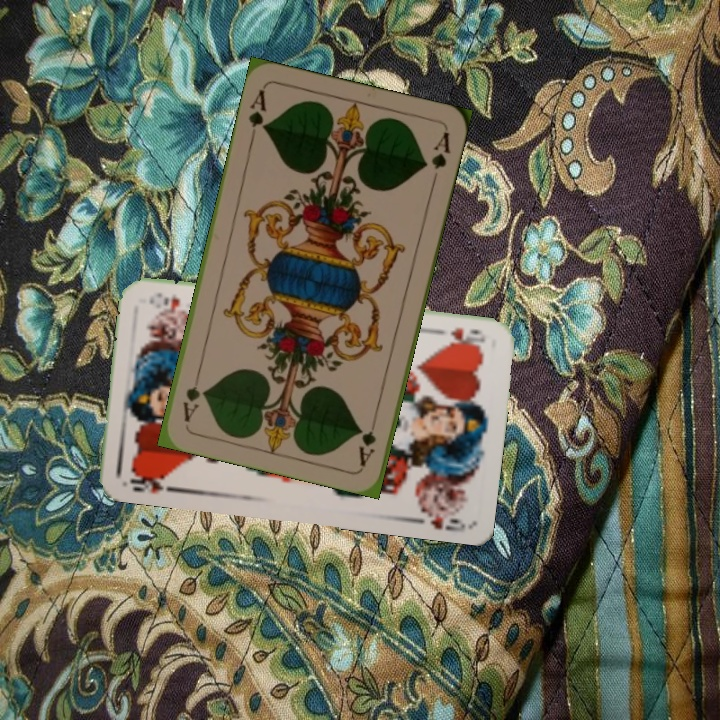GA: (354, 411, 380, 469), (244, 85, 269, 143)
HO: (126, 467, 180, 496), (432, 323, 488, 350)
